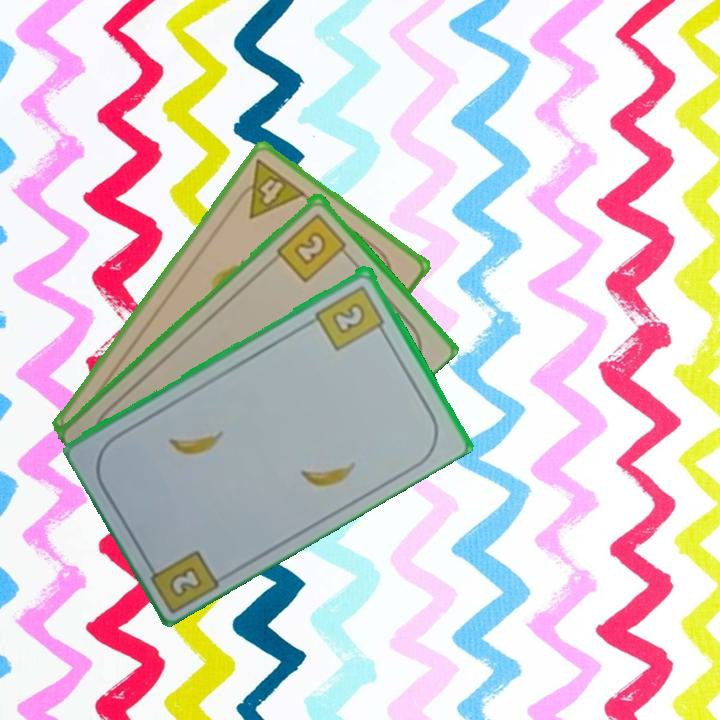2b: (273, 209, 353, 285), (141, 546, 224, 613), (312, 281, 389, 353)
4p: (229, 155, 309, 222)
